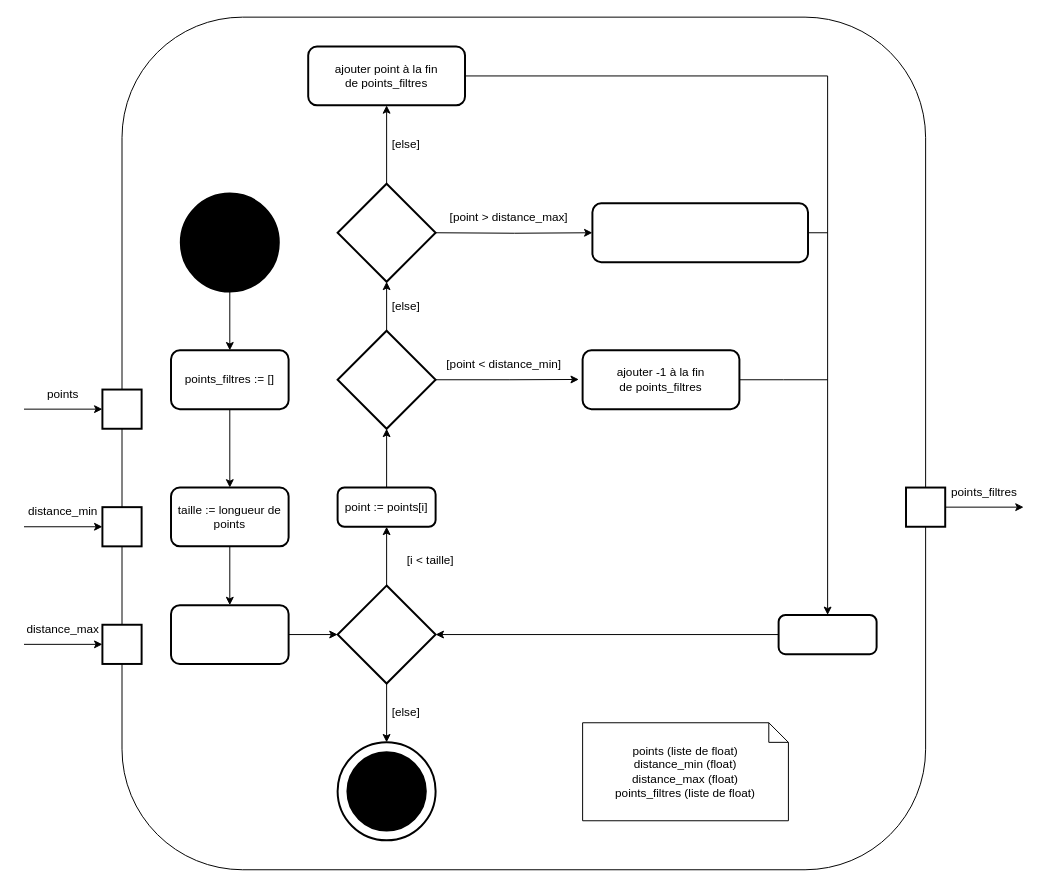
Some shapes in this 1049 by 887 pixel diagram are drawn without their labels. Here are the shapes that lost their labels. From the top down, the centre of each, then its label:
At point 699,232: "ajouter distance_max à la fin de points_filtres".
At point 229,634: "i := 0".
At point 827,634: "i = i + 1".
